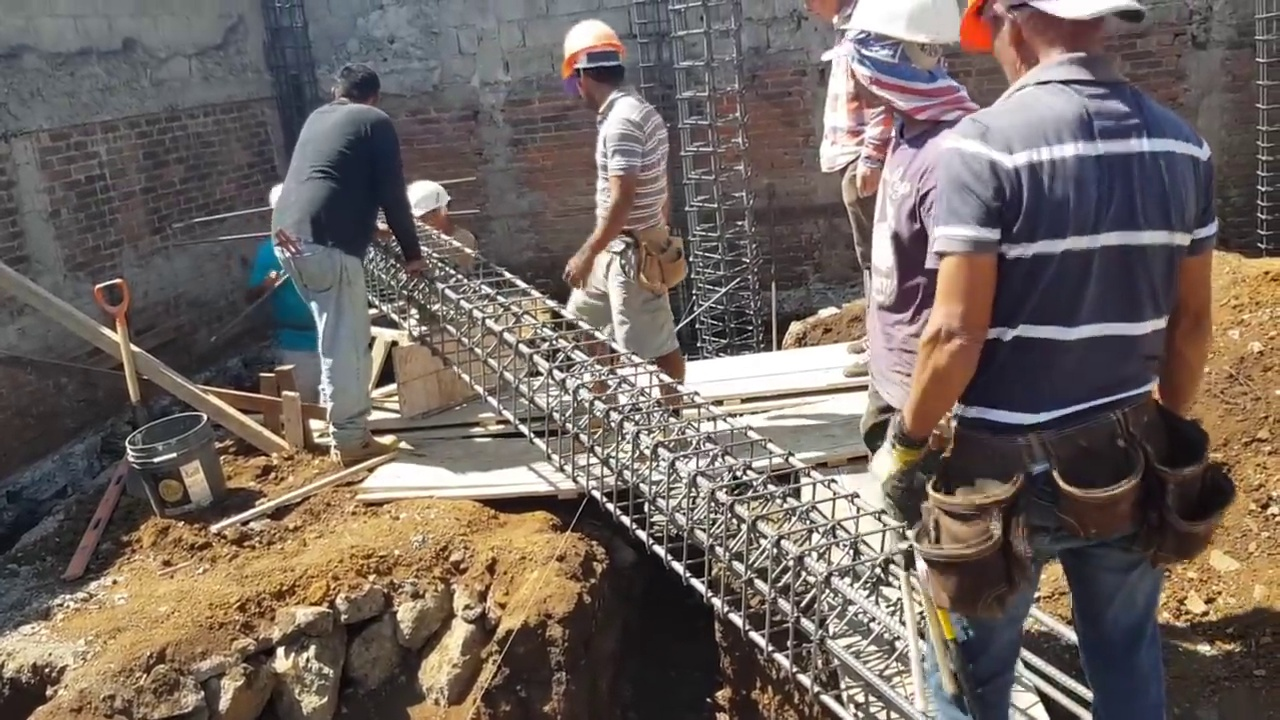helmet: (846, 0, 964, 55), (555, 20, 627, 72), (403, 177, 449, 223)
helmet-off: (958, 0, 1144, 86), (333, 65, 378, 108)
helmet-on: (557, 14, 637, 117), (394, 171, 455, 240)
person: (870, 0, 1224, 719), (809, 0, 962, 435), (273, 49, 427, 472), (555, 8, 686, 393), (801, 2, 888, 235), (248, 180, 320, 409), (393, 170, 480, 277)
